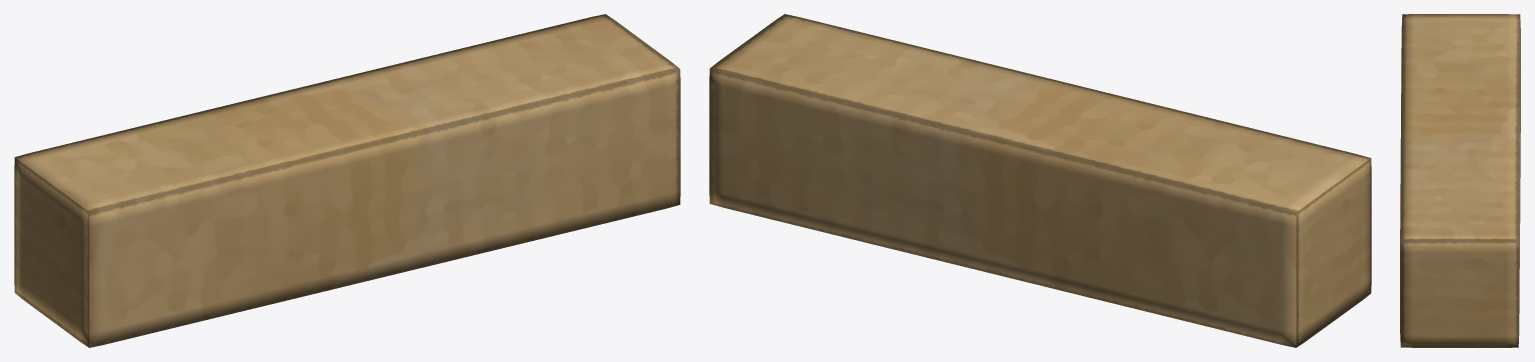
Rendered from BedBox_01.fbx.
3 renders of one model, left to right at view 1: azimuth 30°, elevation 25°; view 2: azimuth 150°, elevation 25°; view 3: azimuth 270°, elevation 25°, orthographic. The views are drawn at different scales.
Parts seen in each view (by area): view 1: Decoration_2; view 2: Decoration_2; view 3: Decoration_2.
Boxes of the visible parts, <box> form: Decoration_2: <box>14,14,680,347</box>; Decoration_2: <box>709,14,1371,347</box>; Decoration_2: <box>1400,14,1520,347</box>.
Bounding box in the file's own units: 1801 × 400 × 405.
